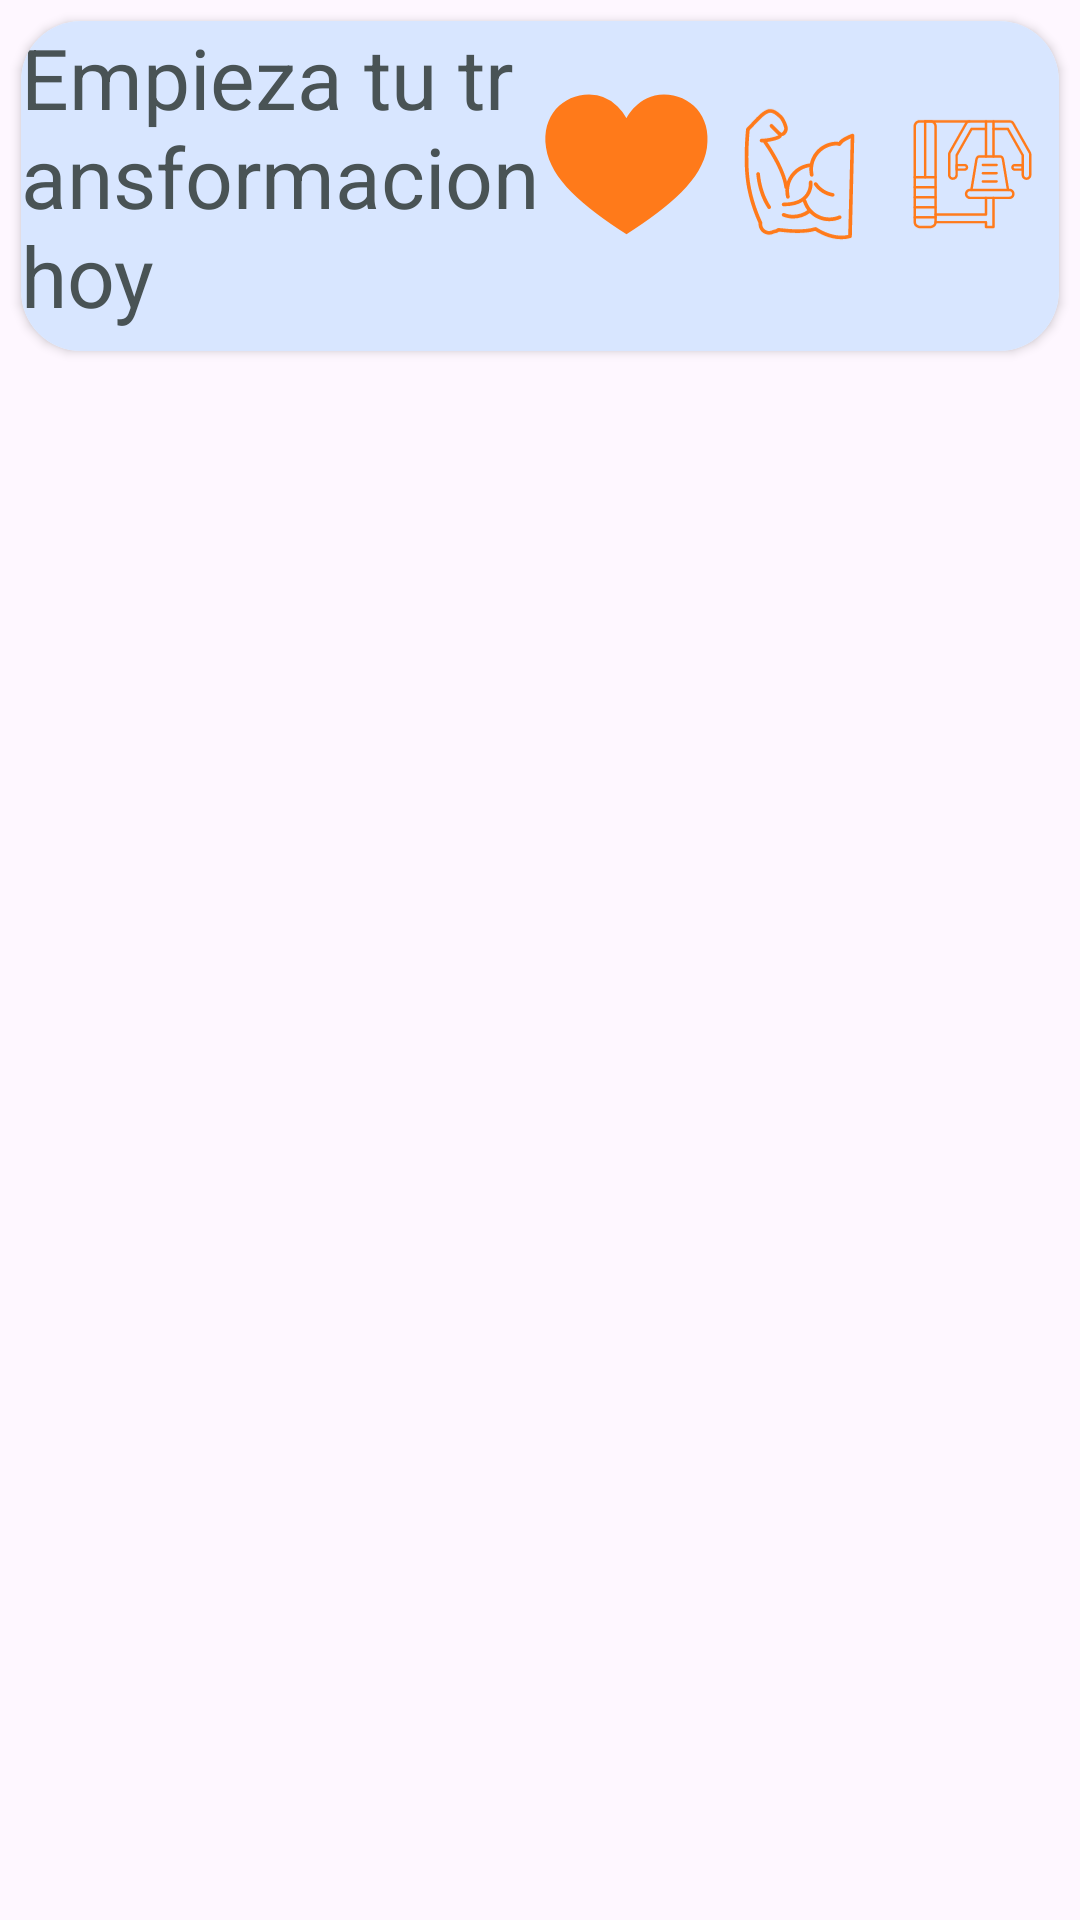

Icons on this 1080×1920 Android screen, each with the point to tap as [x,y]:
brazos: [799,174]
corazon: [626,164]
